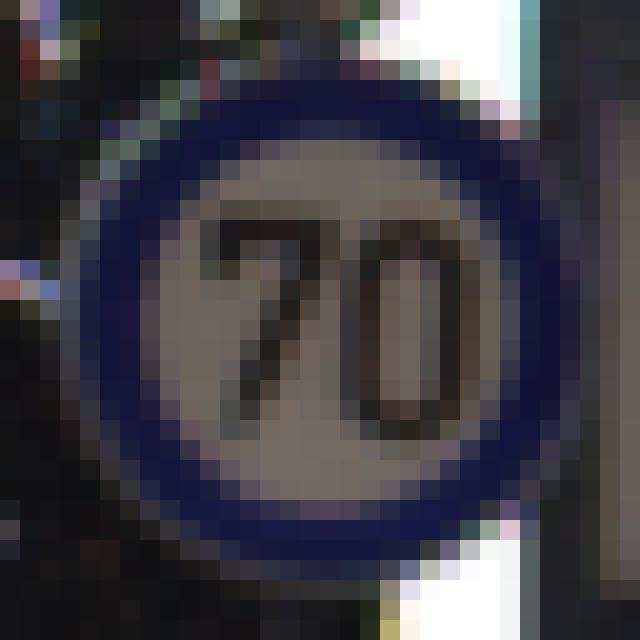SPEED LIMIT 70: (61, 85, 572, 570)
